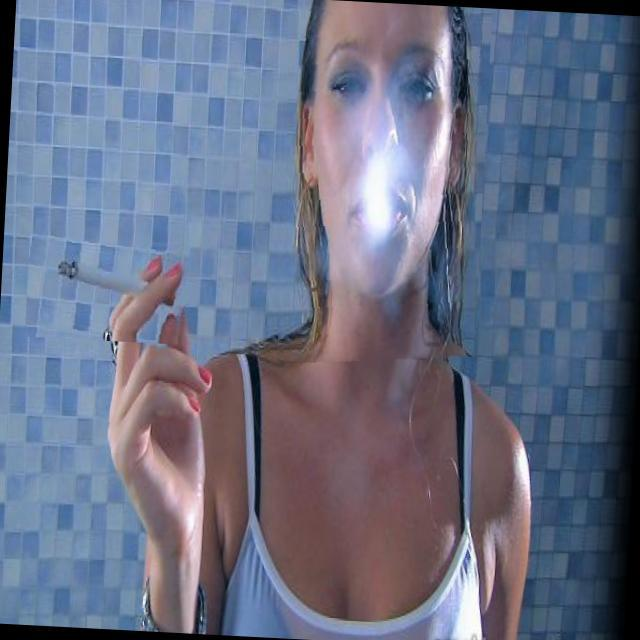cigarette: (25, 227, 192, 346)
